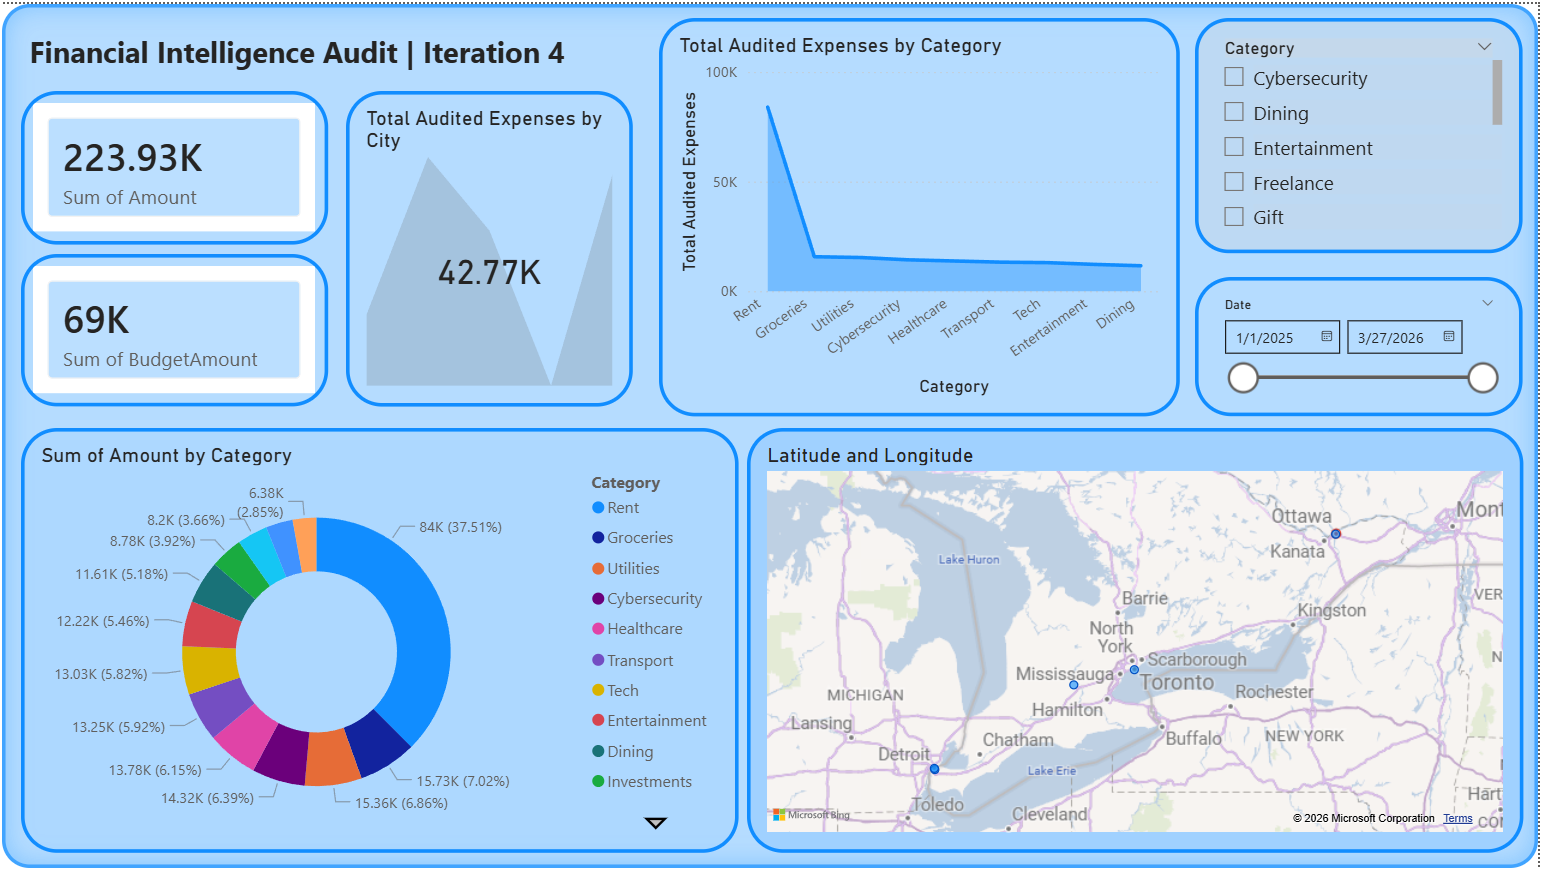

The dashboard page shown, as its layout file describes it:
{"tool":"powerbi","page":{"name":"Detailed","canvas":[1280,720],"ordinal":1},"visuals":[{"type":"textbox","title":"Financial Intelligence Audit | Iteration 4","box":[0,0,1280,720],"z":0},{"type":"slicer","fields":{"Values":["Fact_Transactions_Messy.Category"]},"box":[994.2,11.7,272.5,195.8],"z":1000},{"type":"slicer","fields":{"Values":["Fact_Transactions_Messy.Date"]},"box":[994.2,227.5,273.3,115.8],"z":2000},{"type":"donutChart","fields":{"Category":["Fact_Transactions_Messy.Category","Fact_Transactions_Messy.TransactionID","Fact_Transactions_Messy.City"],"Y":["Sum(Fact_Transactions_Messy.Amount)"]},"box":[15.8,353.3,598.3,354.2],"z":3000},{"type":"cardVisual","fields":{"Data":["Sum(Fact_Transactions_Messy.Amount)"]},"box":[15.8,72.5,255.8,127.5],"z":4000},{"type":"cardVisual","fields":{"Data":["Sum(Fact_Budget_Messy.BudgetAmount)"]},"box":[15.8,208.3,255.8,126.7],"z":5000},{"type":"map","fields":{"Y":["Fact_Transactions_Messy.Latitude"],"X":["Fact_Transactions_Messy.Longitude"]},"box":[620.8,353.3,646.7,354.2],"z":6000},{"type":"stackedAreaChart","fields":{"Category":["Fact_Transactions_Messy.Category"],"Y":["Dim_Date.Total Audited Expenses"]},"box":[547.5,11.7,434.2,331.7],"z":7000},{"type":"kpi","fields":{"Indicator":["Dim_Date.Total Audited Expenses"],"TrendLine":["Fact_Transactions_Messy.City"]},"box":[286.7,72.5,239.2,262.5],"z":8000}]}

Visuals, with their boxes in screenshot pixels (x1, y1, x2, y2), scaled from the page's 1280x720 canvas onto the 1542x870 screenshot:
"Financial Intelligence Audit | Iteration 4" textbox: rect(0, 0, 1541, 869)
slicer - Fact_Transactions_Messy.Category: rect(1198, 14, 1526, 251)
slicer - Fact_Transactions_Messy.Date: rect(1198, 275, 1527, 415)
donutChart - Fact_Transactions_Messy.Category x Fact_Transactions_Messy.TransactionID: rect(19, 427, 740, 855)
cardVisual - Sum(Fact_Transactions_Messy.Amount): rect(19, 88, 327, 242)
cardVisual - Sum(Fact_Budget_Messy.BudgetAmount): rect(19, 252, 327, 405)
map - Fact_Transactions_Messy.Latitude x Fact_Transactions_Messy.Longitude: rect(748, 427, 1527, 855)
stackedAreaChart - Fact_Transactions_Messy.Category x Dim_Date.Total Audited Expenses: rect(660, 14, 1183, 415)
kpi - Dim_Date.Total Audited Expenses x Fact_Transactions_Messy.City: rect(345, 88, 634, 405)
